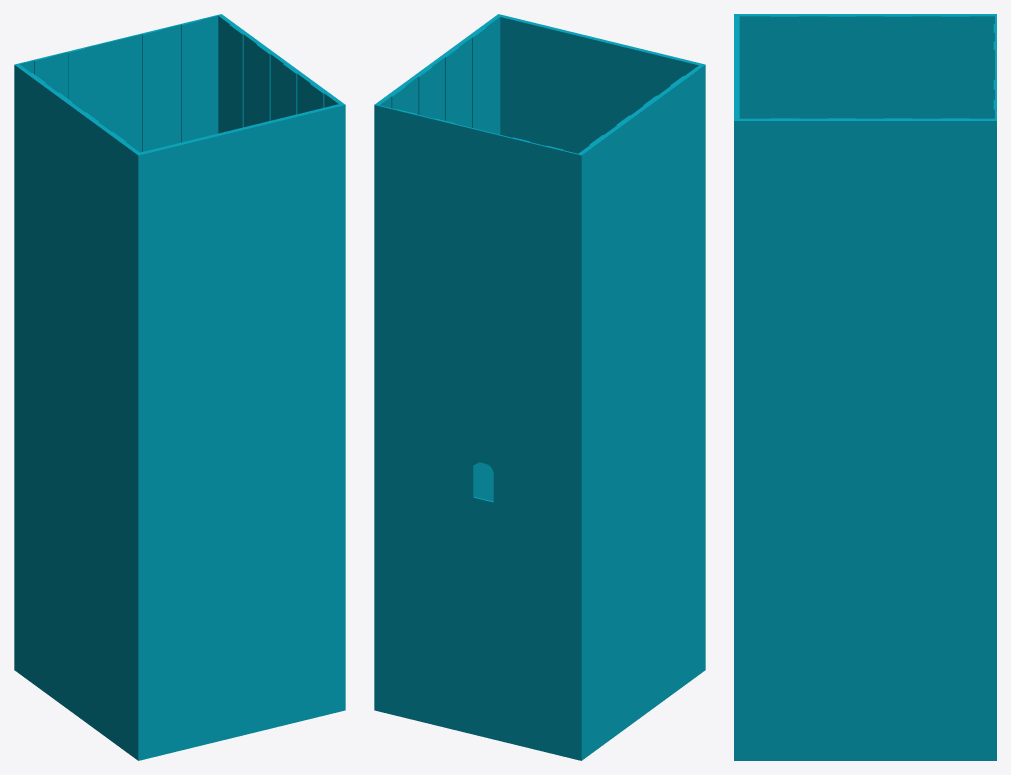
File: env_st_Mur_Détruit_salle_1.fbx
The picture shows the model from 3 angles, left to right: view 1: azimuth 30°, elevation 25°; view 2: azimuth 150°, elevation 25°; view 3: azimuth 270°, elevation 25°; orthographic projection. The views are drawn at different scales.
Visible parts, largest first — view 1: Salle_1_Contour; view 2: Salle_1_Contour; view 3: Salle_1_Contour.
Part boxes in pixels (<box>): Salle_1_Contour: <box>14,14,345,760</box>; Salle_1_Contour: <box>374,14,705,760</box>; Salle_1_Contour: <box>734,14,996,760</box>.
Bounding box in the file's own units: 3575 × 9973 × 3710.
